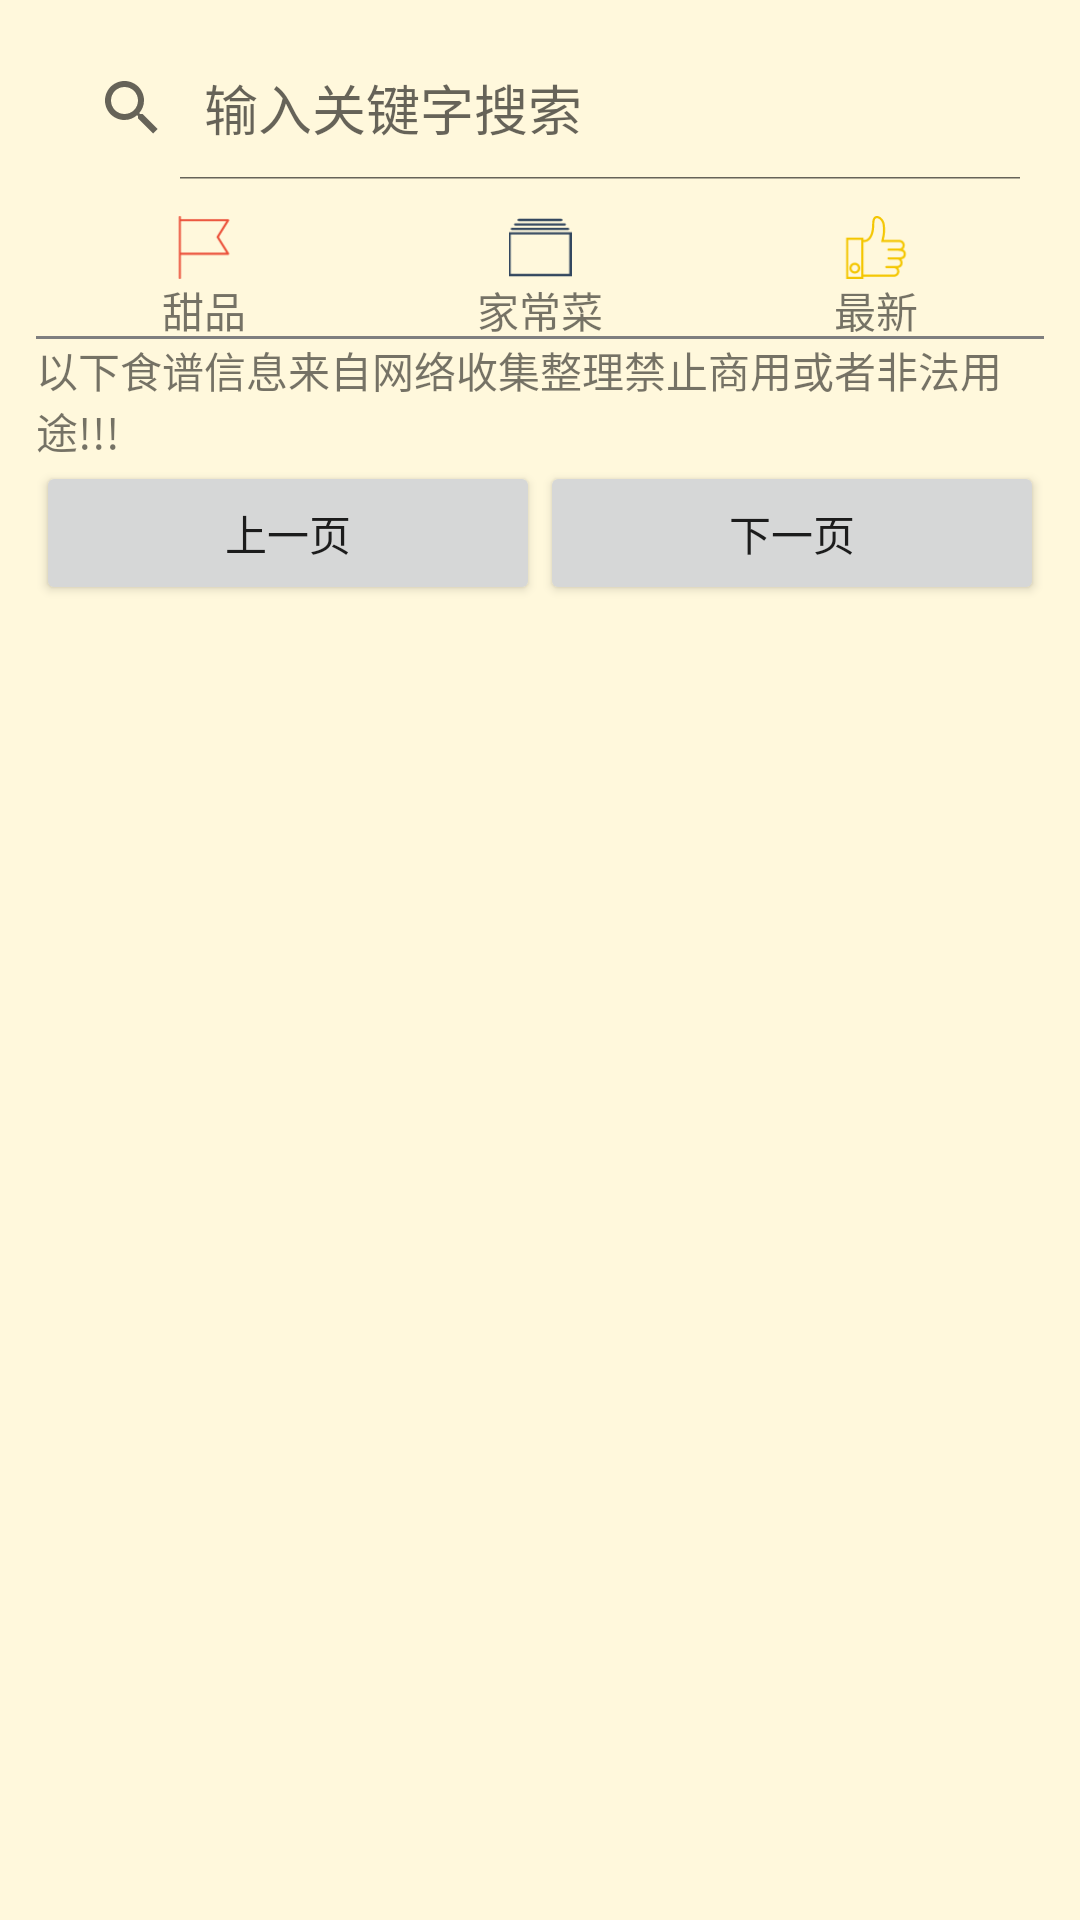

Named icons in this screenshot (1080 x 1920) and their centers, (x,y):
like: (876,247)
